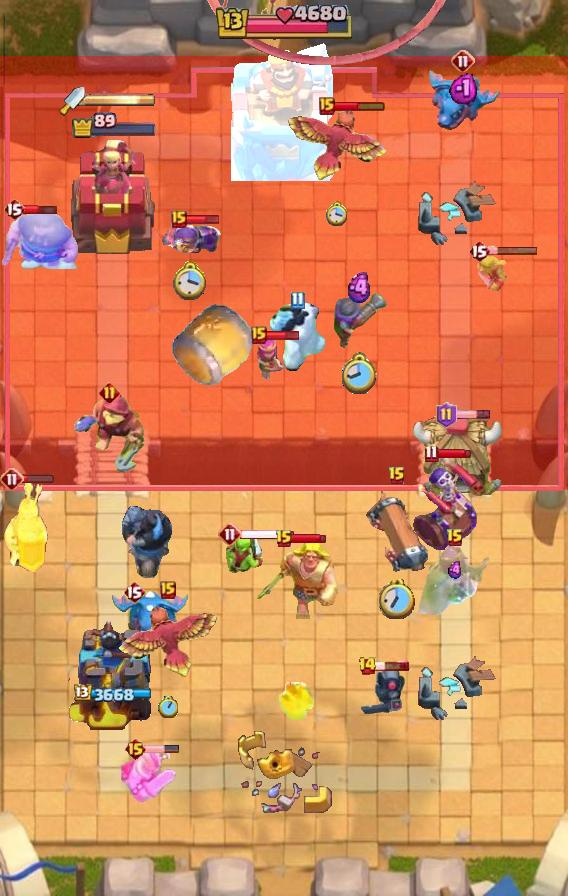bar: (70, 138, 158, 256)
barbarian-hut: (415, 541, 495, 621)
battle-healer: (366, 491, 428, 577)
battle-ram: (358, 664, 408, 718)
bomb-tower: (332, 291, 388, 349)
cannon: (249, 337, 287, 383)
clock: (213, 5, 355, 43)
dirt: (170, 301, 256, 389)
earthquake: (0, 480, 54, 578)
electro-spirit: (345, 272, 375, 304), (449, 71, 477, 104), (447, 561, 465, 579)
elixir: (342, 352, 378, 396), (173, 259, 209, 301), (379, 579, 415, 619), (326, 200, 349, 226), (158, 696, 178, 718)
emote: (241, 527, 296, 540), (334, 100, 387, 112), (487, 245, 539, 256), (23, 203, 58, 217), (264, 330, 300, 342), (436, 448, 472, 460), (291, 533, 327, 545), (374, 660, 410, 672), (454, 409, 491, 420), (17, 472, 54, 483), (185, 215, 220, 226), (144, 744, 180, 754)
fireball: (73, 392, 145, 474)
firecracker-evolution: (160, 222, 222, 256)
goblin-giant: (117, 748, 177, 804)
goblin-hut: (254, 539, 340, 619)
golden-knight: (284, 105, 390, 183), (115, 602, 221, 680)
graveyard: (424, 67, 502, 131), (110, 588, 188, 650)
inferno-dragon: (119, 501, 175, 581)
king-tower: (231, 43, 337, 181)
king-tower-bar: (85, 93, 155, 107)
prince: (412, 412, 506, 502)
queen-tower: (66, 617, 162, 731)
rage: (269, 303, 325, 375)
royal-hog: (0, 205, 80, 269)
selected: (70, 112, 157, 140), (74, 684, 154, 704)
skeleton-barrel: (200, 0, 453, 67)
skeleton-king-bar: (408, 454, 478, 554)
text: (451, 49, 475, 73), (0, 467, 24, 491), (218, 522, 242, 546), (125, 737, 148, 761), (435, 402, 456, 428), (3, 197, 25, 221), (468, 239, 490, 263), (123, 580, 145, 604), (99, 381, 121, 403), (358, 656, 377, 676), (388, 466, 406, 486), (446, 528, 464, 548), (275, 529, 293, 549), (319, 97, 335, 115), (171, 210, 187, 228), (251, 326, 267, 344), (160, 581, 176, 599), (424, 444, 439, 463), (291, 290, 305, 309)
valkyrie: (273, 682, 319, 724)
zap: (224, 535, 266, 577), (475, 248, 509, 291)
